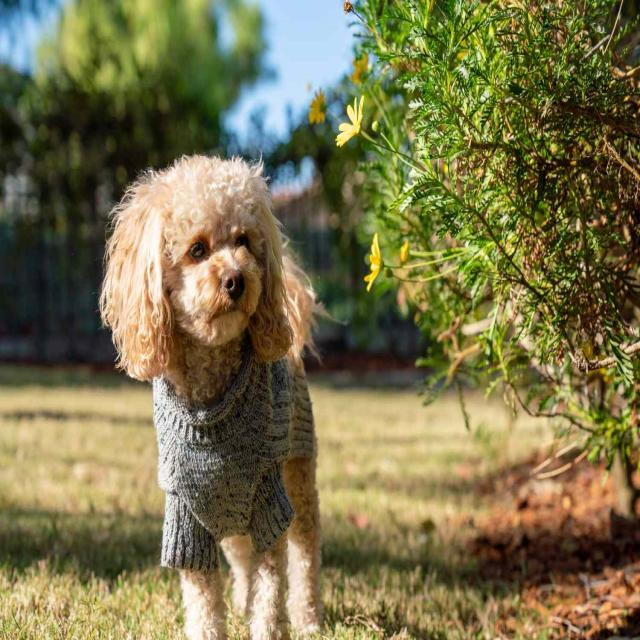dogs: (95, 145, 328, 640)
